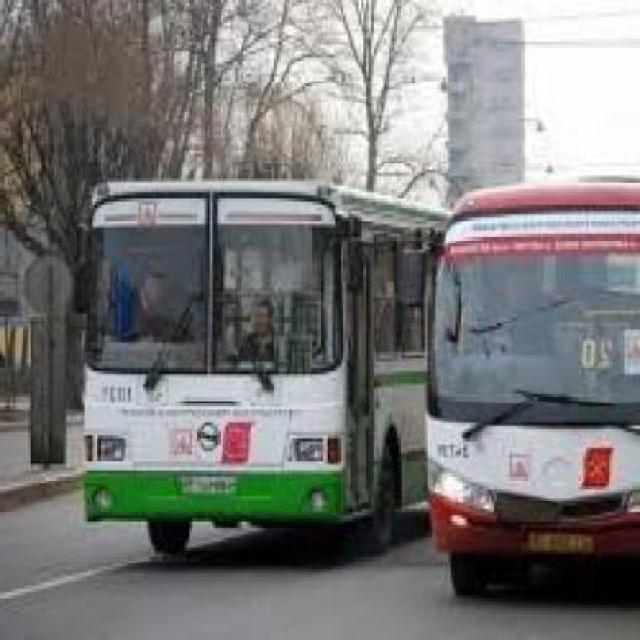bus: (86, 176, 418, 559), (438, 180, 640, 594)
